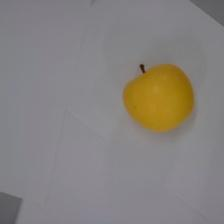yellow: (120, 57, 198, 134)
